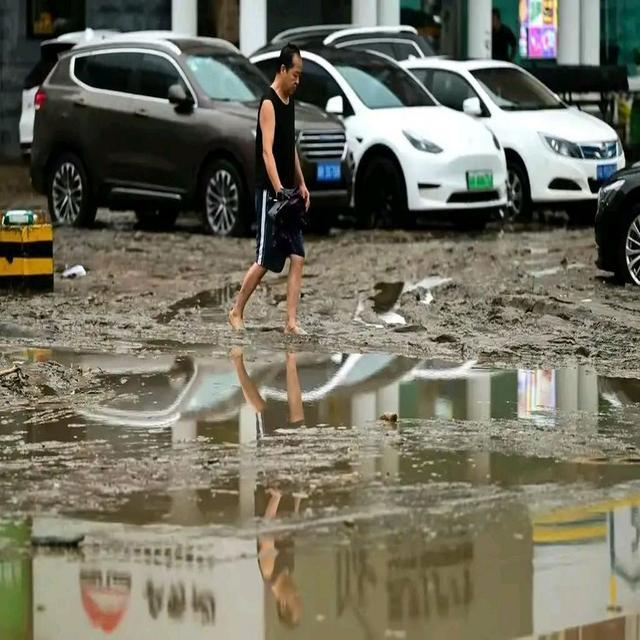Car-RiskLevel1: (34, 29, 354, 237), (235, 47, 519, 236), (393, 51, 631, 210)
Person-RiskLevel1: (226, 42, 322, 341)
